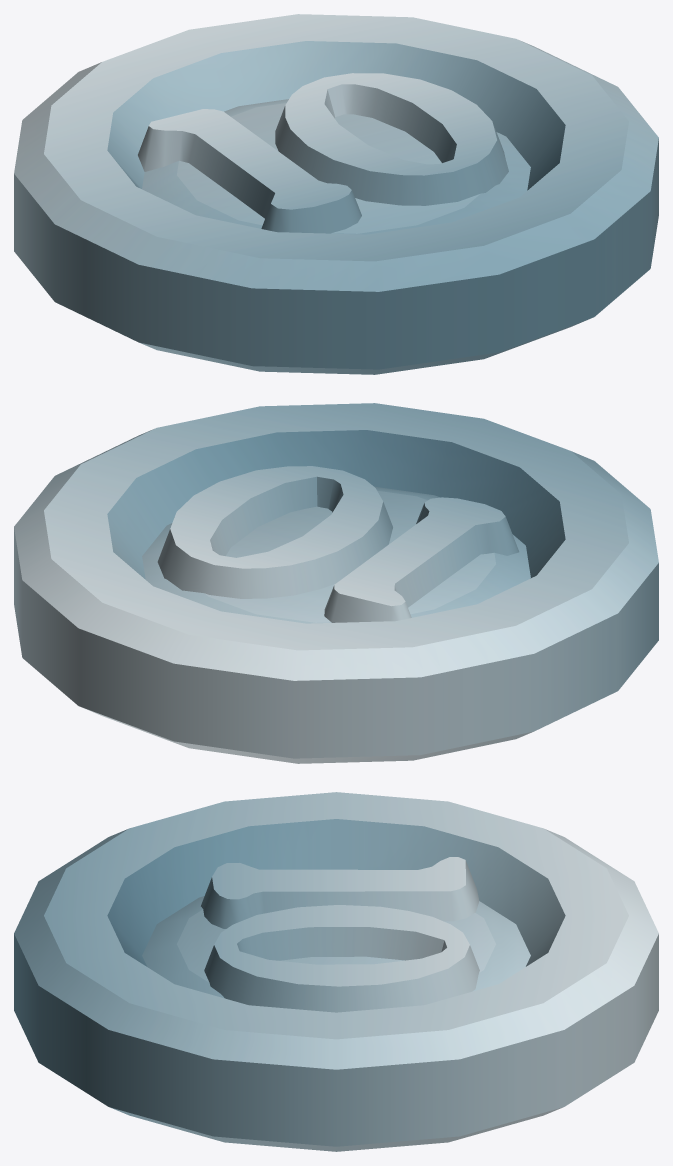
The model's file is coin_10_silver.obj.
3 renders of one model, top to bottom at view 1: azimuth 30°, elevation 25°; view 2: azimuth 150°, elevation 25°; view 3: azimuth 270°, elevation 25°, orthographic.
Visible parts, largest first — view 1: coin_10_silver; view 2: coin_10_silver; view 3: coin_10_silver.
Boxes of the visible parts, left/top/right/bottom form: coin_10_silver: left=14, top=14, right=658, bottom=374; coin_10_silver: left=14, top=403, right=658, bottom=763; coin_10_silver: left=14, top=792, right=658, bottom=1151.
Bounding box in the file's own units: 1.04 × 0.2 × 1.04.
Materials: 1 (1 with a texture image).
